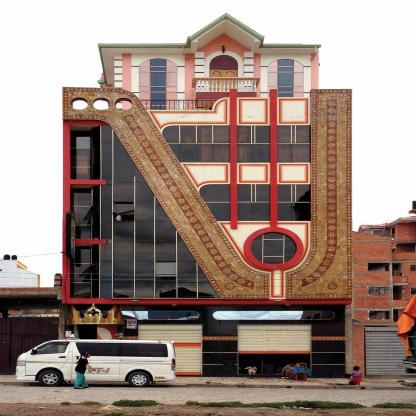Balcony: (192, 78, 261, 106)
Building Outline: (61, 12, 352, 379)
Deco: (62, 87, 269, 299), (285, 89, 352, 299), (66, 302, 125, 325)
Door: (238, 325, 311, 375), (139, 325, 202, 376), (210, 68, 238, 96)
Facade: (61, 12, 353, 378)
Glass Wall: (70, 125, 220, 298)
Pillar: (114, 54, 123, 110), (244, 51, 254, 93), (195, 52, 205, 93)
Roof: (97, 12, 321, 84)
Shop: (66, 211, 75, 259)
Window: (162, 125, 230, 163), (277, 125, 311, 163), (236, 126, 270, 163), (277, 185, 311, 221), (237, 184, 270, 221), (199, 184, 231, 221), (212, 311, 334, 320), (150, 59, 166, 109), (120, 311, 200, 320), (277, 59, 294, 97)
